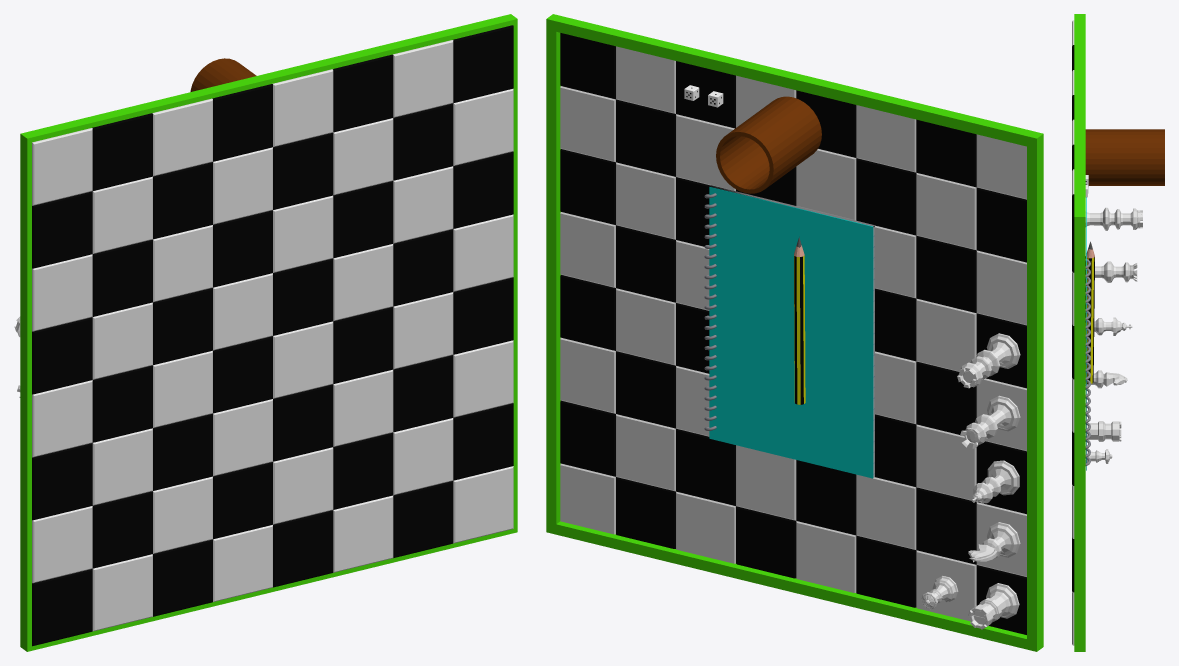
Rendered from BoardGameEssentials.fbx.
3 renders of one model, left to right at view 1: azimuth 30°, elevation 25°; view 2: azimuth 150°, elevation 25°; view 3: azimuth 270°, elevation 25°, orthographic. The views are drawn at different scales.
Visible parts, largest first — view 1: Checkerboard, BoardEdge, DiceShaker; view 2: Checkerboard, NotepadCover, BoardEdge, DiceShaker, NotepadBook, ChessKing, Pencil, ChessQueen, ChessRook, ChessBishop, ChessKnight, ChessPawn; view 3: BoardEdge, DiceShaker, Checkerboard, ChessKing, Pencil, NotepadBook, ChessQueen, ChessRook, ChessKnight, ChessBishop, ChessPawn, NotepadCover.
Part boxes in pixels (box(x1,y1,x2,y2)): Checkerboard: box(32, 25, 513, 646); BoardEdge: box(20, 14, 517, 651); DiceShaker: box(190, 58, 256, 91); Checkerboard: box(560, 33, 1026, 634); NotepadCover: box(709, 187, 873, 478); BoardEdge: box(546, 14, 1043, 651); DiceShaker: box(716, 96, 821, 193); NotepadBook: box(704, 185, 874, 477); ChessKing: box(957, 333, 1020, 388); Pencil: box(794, 237, 805, 404); ChessQueen: box(960, 395, 1020, 448); ChessRook: box(968, 583, 1019, 629); ChessBishop: box(971, 460, 1019, 503); ChessKnight: box(968, 522, 1020, 562); ChessPawn: box(921, 575, 958, 609); BoardEdge: box(1074, 14, 1085, 651); DiceShaker: box(1085, 129, 1164, 185); Checkerboard: box(1072, 20, 1074, 645); ChessKing: box(1085, 207, 1142, 230); Pencil: box(1085, 241, 1094, 383); NotepadBook: box(1085, 259, 1090, 465); ChessQueen: box(1095, 261, 1137, 282); ChessRook: box(1085, 421, 1121, 441); ChessKnight: box(1085, 370, 1127, 388); ChessBishop: box(1094, 317, 1132, 335); ChessPawn: box(1085, 449, 1112, 463); NotepadCover: box(1086, 197, 1086, 470).
Bounding box in the file's own units: 10200 × 10200 × 1972.
